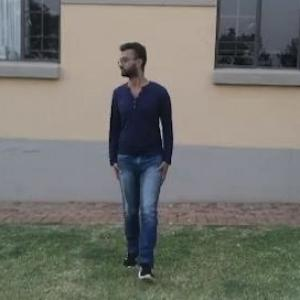follow: (100, 32, 179, 278)
